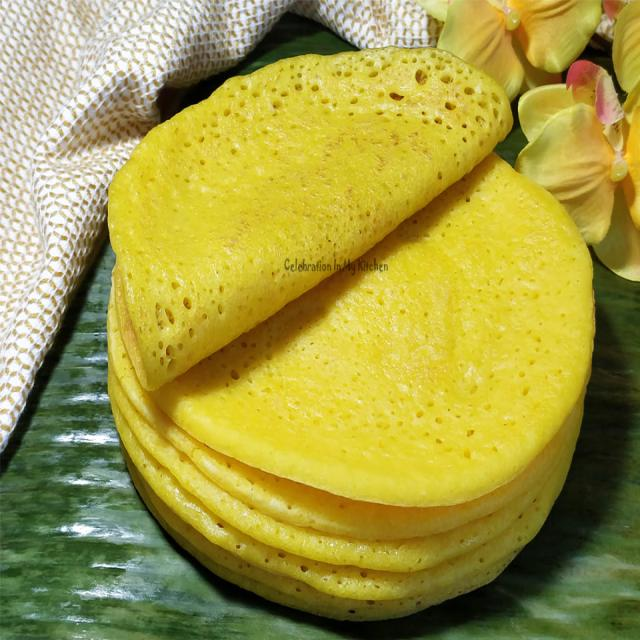DOSA: (113, 153, 593, 508), (107, 43, 512, 390)
